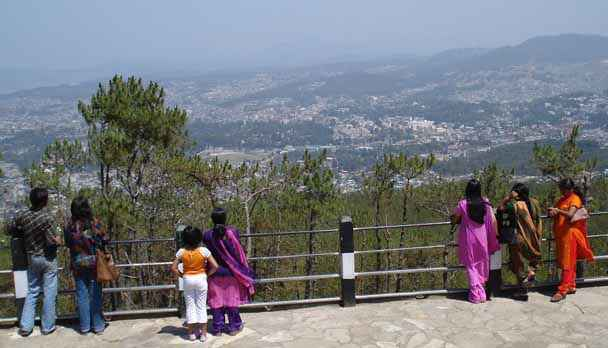person: (180, 225, 208, 256), (68, 197, 94, 222), (466, 178, 487, 206), (28, 186, 51, 210), (507, 182, 530, 204), (209, 207, 231, 226), (558, 179, 576, 200)
